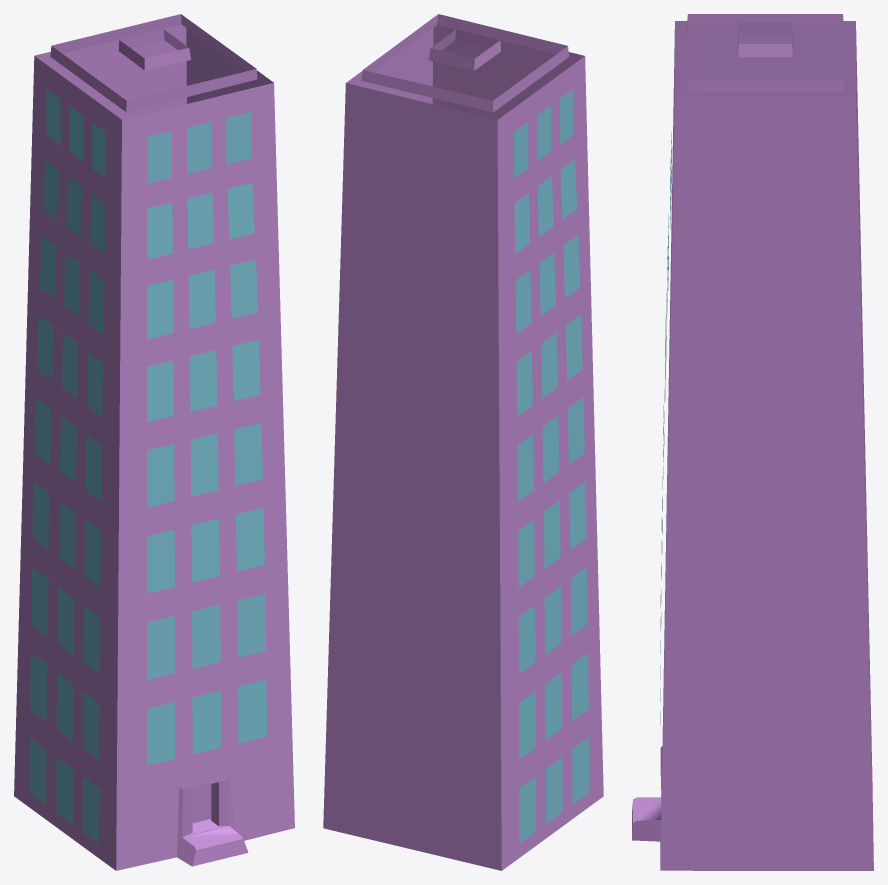
The model's file is Building_LOD1.fbx.
3 views of the same model, side by side, from view 1: azimuth 30°, elevation 25°; view 2: azimuth 150°, elevation 25°; view 3: azimuth 270°, elevation 25° (orthographic). The views are drawn at different scales.
Parts seen in each view (by area): view 1: Cube.001; view 2: Cube.001; view 3: Cube.001.
Part boxes in pixels (x1,y1,x2,y2): Cube.001: (14,14,294,870); Cube.001: (323,14,603,870); Cube.001: (632,14,873,870).
Size of the model in its own units: 1032 by 4235 by 1171.
